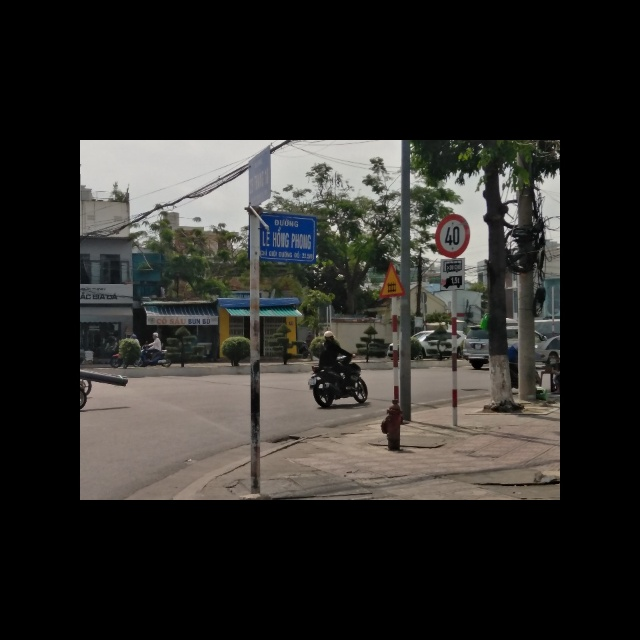Giao nhau với đường sắt có rào chắn: (378, 262, 405, 298)
Tốc độ tối đa cho phép 40km/h: (435, 213, 471, 259)
